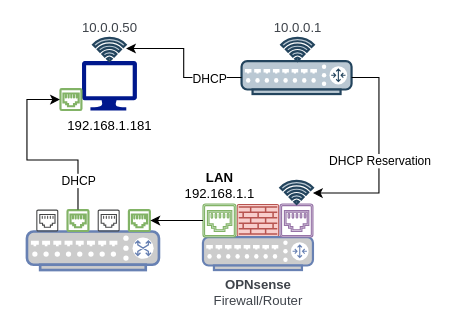
Image size: 450x328. Some labels were removed from this diagram. The shapes that lost their labels are listed below. From the top down, each one's centre as x and y in pixels, then its label:
At (x=296, y=77): "Home WiFi ISP Router".
At (x=296, y=220): "WAN 10.0.0.250".
At (x=92, y=250): "8-Port Switch".
